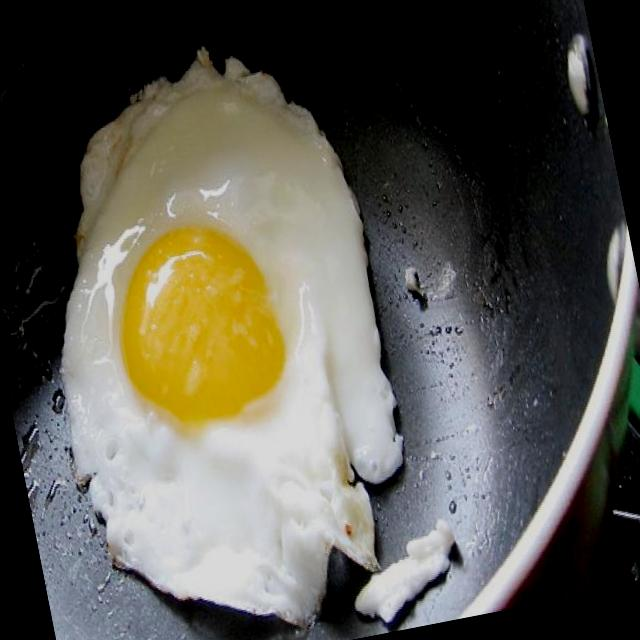Egg: (2, 20, 447, 640)
